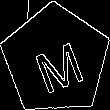M_N: (26, 28, 86, 91)
